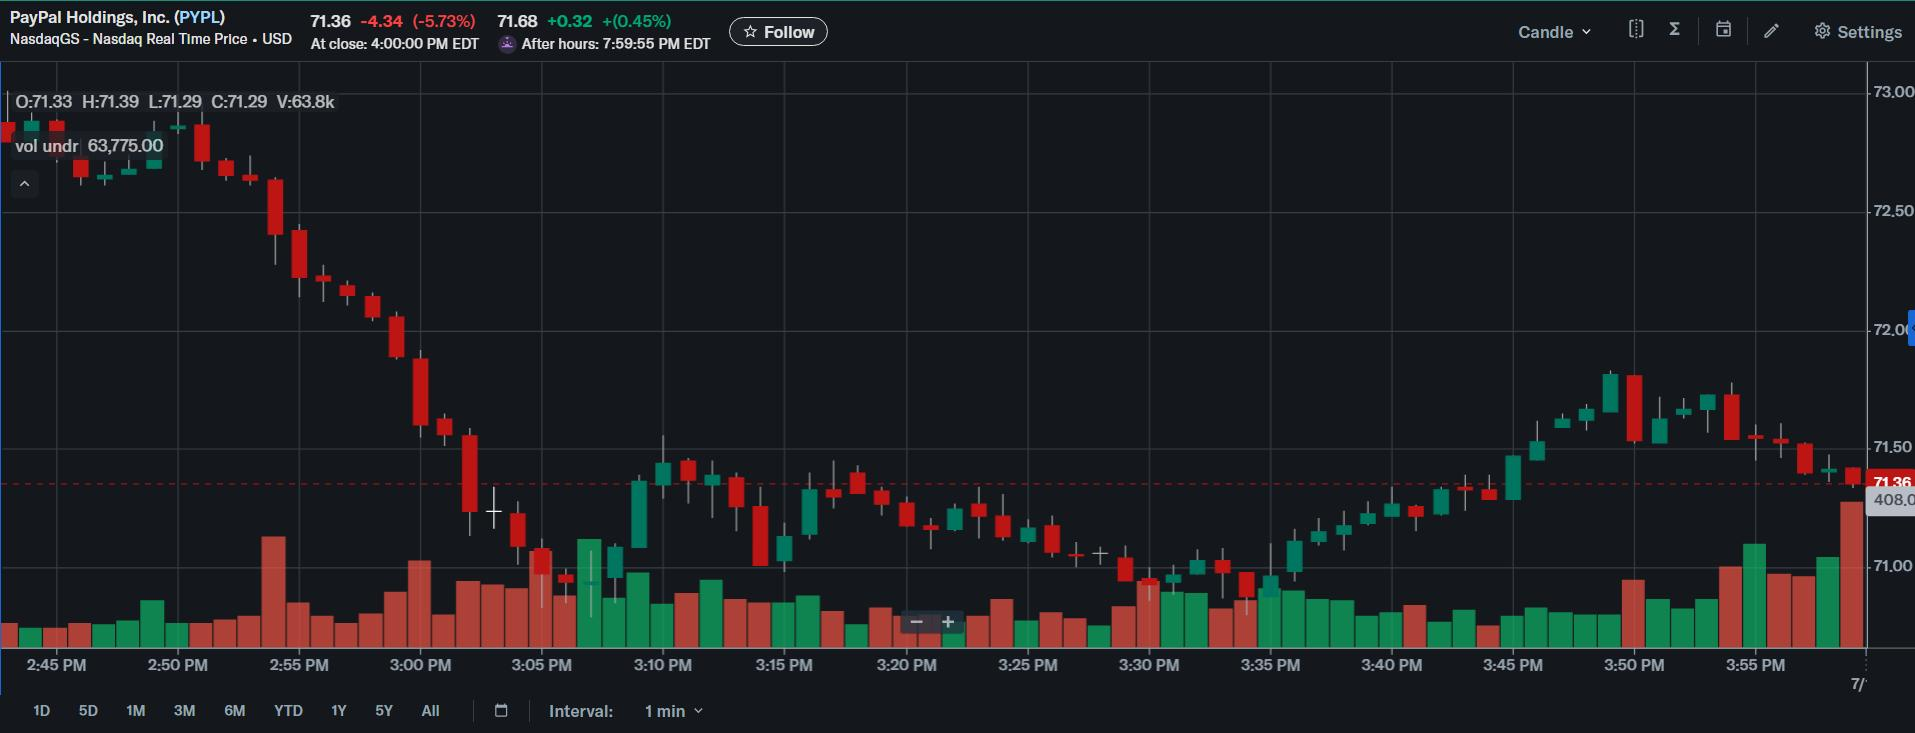Downtrend: (184, 109, 532, 572)
Sideways: (630, 453, 1064, 568), (1627, 374, 1751, 459)
Uptrend: (1262, 364, 1624, 602)
